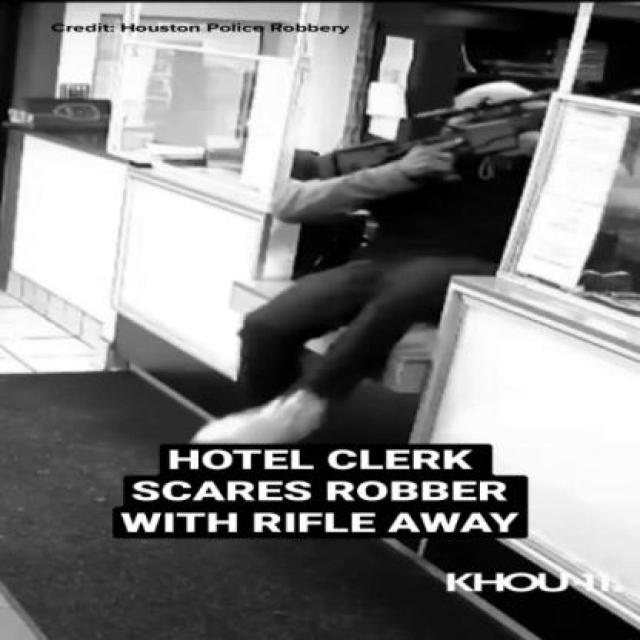weapon: (283, 81, 634, 208)
